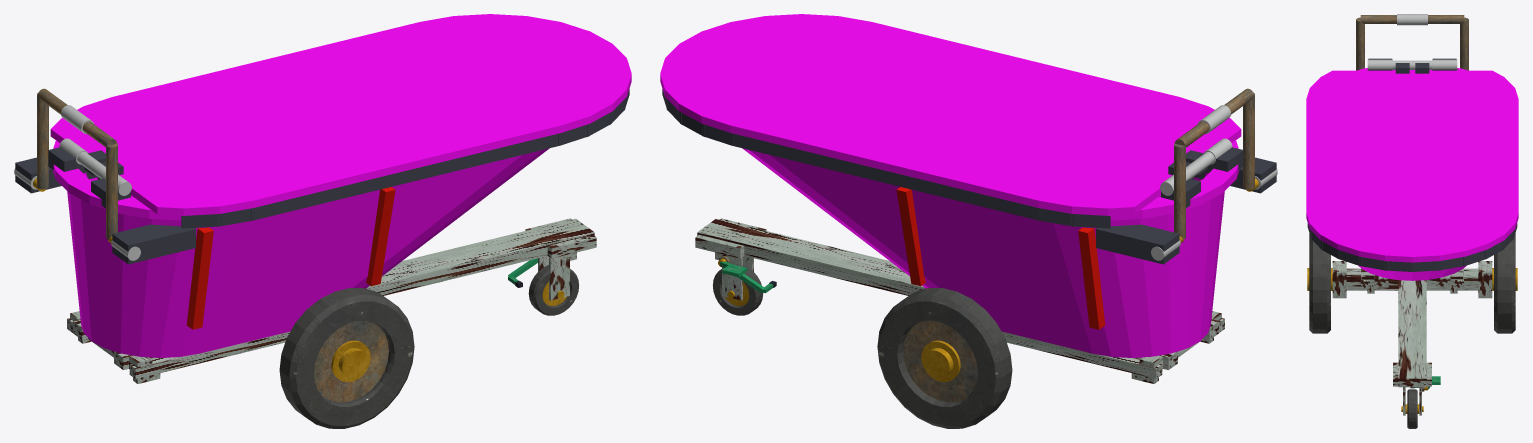
The model's file is Urban_Environment_Tilt_Truck1__1812.glb.
3 views of the same model, side by side, from view 1: azimuth 30°, elevation 25°; view 2: azimuth 150°, elevation 25°; view 3: azimuth 270°, elevation 25° (orthographic). The views are drawn at different scales.
Visible parts, largest first — view 1: lid::lid__hinged_lid__panel, cargo_shell::shell_form__obround__hopper, rear_wheel_0::rear_wheel__disc_rim__tyre_0, chassis::chassis__front_spine, lid::lid__hinged_lid__skirt_0, rear_wheel_0::rear_wheel__disc_rim__web_disc_0, cargo_shell::handle__folding_u_frame__pedestal_0, chassis::underframe__rail_cradle__side_rail_0, cargo_shell::rib__raised_rail__wall0_0, cargo_shell::rib__raised_rail__wall0_1, front_wheel::front_support__front_tyre, push_handle::handle__folding_u_frame__upright_0 (+8 smaller); view 2: lid::lid__hinged_lid__panel, cargo_shell::shell_form__obround__hopper, rear_wheel_1::rear_wheel__disc_rim__tyre_1, chassis::chassis__front_spine, lid::lid__hinged_lid__skirt_13, rear_wheel_1::rear_wheel__disc_rim__web_disc_1, cargo_shell::handle__folding_u_frame__pedestal_1, chassis::underframe__rail_cradle__side_rail_1, cargo_shell::rib__raised_rail__wall1_0, cargo_shell::rib__raised_rail__wall1_1, push_handle::handle__folding_u_frame__upright_1, push_handle::handle__folding_u_frame__upright_0 (+8 smaller); view 3: lid::lid__hinged_lid__panel, chassis::chassis__front_spine, rear_wheel_0::rear_wheel__disc_rim__tyre_0, rear_wheel_1::rear_wheel__disc_rim__tyre_1, chassis::chassis__axle_beam, cargo_shell::shell_form__obround__hopper, push_handle::handle__folding_u_frame__crossbar, chassis::chassis__bearing_block_0, chassis::chassis__bearing_block_1, push_handle::handle__folding_u_frame__upright_0, push_handle::handle__folding_u_frame__upright_1, front_wheel::front_support__front_tyre (+11 smaller).
Boxes of the visible parts, <box> form: lid::lid__hinged_lid__panel: <box>50,14,631,215</box>; cargo_shell::shell_form__obround__hopper: <box>52,140,549,357</box>; rear_wheel_0::rear_wheel__disc_rim__tyre_0: <box>279,288,414,428</box>; chassis::chassis__front_spine: <box>366,218,594,295</box>; lid::lid__hinged_lid__skirt_0: <box>251,133,561,220</box>; rear_wheel_0::rear_wheel__disc_rim__web_disc_0: <box>314,321,388,402</box>; cargo_shell::handle__folding_u_frame__pedestal_0: <box>112,224,195,264</box>; chassis::underframe__rail_cradle__side_rail_0: <box>129,331,289,378</box>; cargo_shell::rib__raised_rail__wall0_0: <box>186,227,213,329</box>; cargo_shell::rib__raised_rail__wall0_1: <box>366,187,395,286</box>; front_wheel::front_support__front_tyre: <box>528,265,579,315</box>; push_handle::handle__folding_u_frame__upright_0: <box>106,143,117,239</box>; lid::lid__hinged_lid__panel: <box>660,14,1241,215</box>; cargo_shell::shell_form__obround__hopper: <box>742,140,1239,357</box>; rear_wheel_1::rear_wheel__disc_rim__tyre_1: <box>877,288,1012,428</box>; chassis::chassis__front_spine: <box>697,218,925,295</box>; lid::lid__hinged_lid__skirt_13: <box>730,133,1040,220</box>; rear_wheel_1::rear_wheel__disc_rim__web_disc_1: <box>903,321,977,402</box>; cargo_shell::handle__folding_u_frame__pedestal_1: <box>1096,224,1179,264</box>; chassis::underframe__rail_cradle__side_rail_1: <box>1002,331,1162,378</box>; cargo_shell::rib__raised_rail__wall1_0: <box>1078,227,1105,329</box>; cargo_shell::rib__raised_rail__wall1_1: <box>896,187,925,286</box>; push_handle::handle__folding_u_frame__upright_1: <box>1174,143,1185,239</box>; push_handle::handle__folding_u_frame__upright_0: <box>1243,93,1254,189</box>; lid::lid__hinged_lid__panel: <box>1306,70,1518,262</box>; chassis::chassis__front_spine: <box>1398,280,1426,387</box>; rear_wheel_0::rear_wheel__disc_rim__tyre_0: <box>1309,233,1330,333</box>; rear_wheel_1::rear_wheel__disc_rim__tyre_1: <box>1494,233,1515,333</box>; chassis::chassis__axle_beam: <box>1346,268,1478,290</box>; cargo_shell::shell_form__obround__hopper: <box>1357,68,1467,280</box>; push_handle::handle__folding_u_frame__crossbar: <box>1360,15,1464,23</box>; chassis::chassis__bearing_block_0: <box>1332,261,1346,298</box>; chassis::chassis__bearing_block_1: <box>1478,261,1492,298</box>; push_handle::handle__folding_u_frame__upright_0: <box>1356,17,1364,70</box>; push_handle::handle__folding_u_frame__upright_1: <box>1460,17,1468,70</box>; front_wheel::front_support__front_tyre: <box>1407,389,1417,428</box>.
Size of the model in its own units: 1.68 by 0.9369 by 0.7583.
10 materials, 8 textured.
